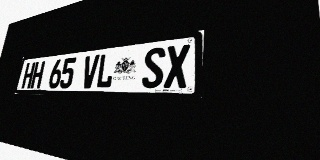5: (59, 57, 77, 88)
6: (48, 59, 64, 88)
H: (30, 61, 45, 89), (21, 62, 36, 89)
L: (95, 53, 116, 88)
S: (141, 47, 166, 88)
V: (80, 54, 100, 88)
X: (163, 44, 190, 88)
